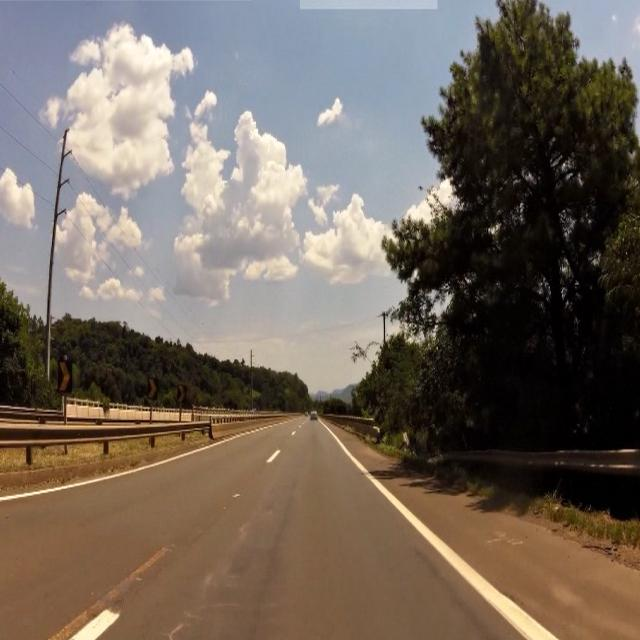Del: (57, 359, 71, 397), (145, 378, 158, 404), (178, 386, 190, 408)
